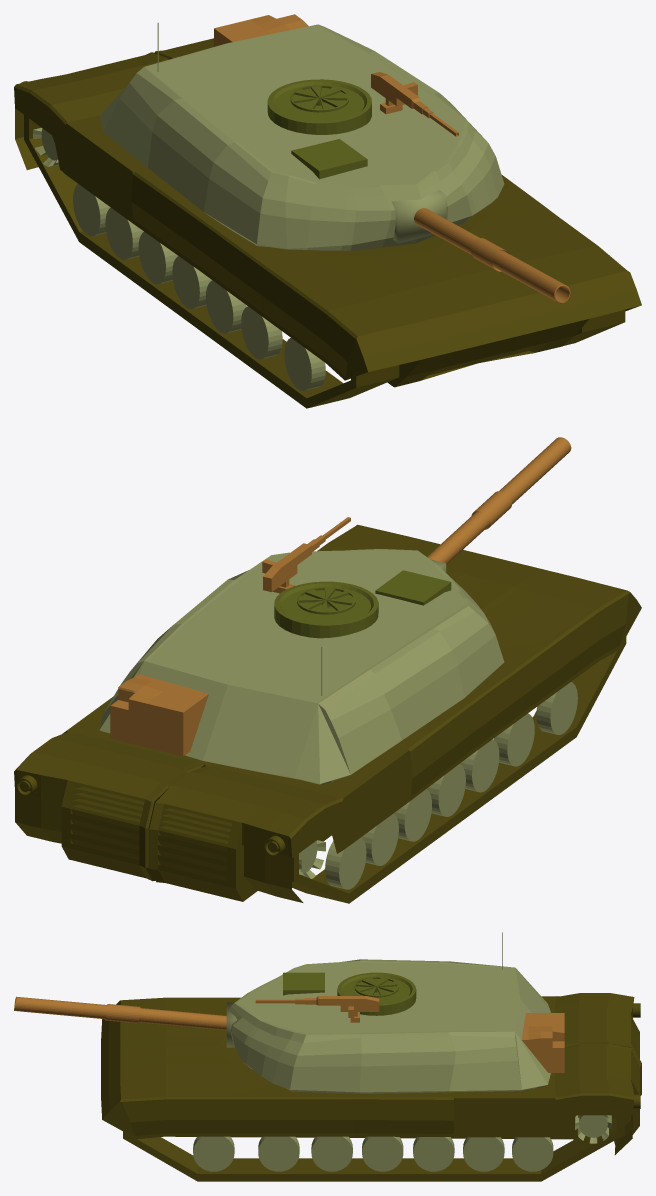
Rendered from tank.fbx.
3 renders of one model, top to bottom at view 1: azimuth 30°, elevation 25°; view 2: azimuth 150°, elevation 25°; view 3: azimuth 270°, elevation 25°, orthographic. The views are drawn at different scales.
Parts seen in each view (by area): view 1: tank_body, tank_turret, tank_caterpillar_1, big_gun, small_gun, Cylinder.035, Cylinder.034, Cylinder.033, Cylinder.032, Cylinder.031, Cylinder.030, Cylinder.029 (+2 smaller); view 2: tank_body, tank_turret, tank_caterpillar_1, big_gun, small_gun, Cylinder.029, Cylinder.035, Cylinder.034, Cylinder.033, Cylinder.032, Cylinder.031, Cylinder.030 (+1 smaller); view 3: tank_body, tank_turret, tank_caterpillar2, big_gun, small_gun, Cylinder.021, Cylinder.023, Cylinder.022, Cylinder.024, Cylinder.026, Cylinder.025, Cylinder.027 (+1 smaller).
Part boxes in pixels (bbox=[...]): tank_body: bbox=[14, 38, 641, 387]; tank_turret: bbox=[99, 14, 504, 250]; tank_caterpillar_1: bbox=[24, 115, 399, 408]; big_gun: bbox=[414, 208, 570, 303]; small_gun: bbox=[371, 72, 458, 136]; Cylinder.035: bbox=[284, 338, 325, 390]; Cylinder.034: bbox=[241, 306, 282, 359]; Cylinder.033: bbox=[206, 280, 246, 333]; Cylinder.032: bbox=[172, 256, 212, 309]; Cylinder.031: bbox=[138, 231, 177, 284]; Cylinder.030: bbox=[105, 207, 143, 259]; Cylinder.029: bbox=[73, 184, 110, 236]; tank_body: bbox=[14, 524, 641, 902]; tank_turret: bbox=[99, 549, 504, 785]; tank_caterpillar_1: bbox=[292, 637, 626, 903]; big_gun: bbox=[427, 437, 571, 564]; small_gun: bbox=[262, 517, 350, 593]; Cylinder.029: bbox=[325, 837, 366, 889]; Cylinder.035: bbox=[536, 682, 577, 734]; Cylinder.034: bbox=[494, 713, 534, 766]; Cylinder.033: bbox=[460, 739, 499, 792]; Cylinder.032: bbox=[427, 764, 465, 816]; Cylinder.031: bbox=[394, 789, 431, 841]; Cylinder.030: bbox=[361, 813, 398, 865]; tank_body: bbox=[101, 993, 641, 1154]; tank_turret: bbox=[226, 932, 564, 1093]; tank_caterpillar2: bbox=[123, 1115, 624, 1181]; big_gun: bbox=[14, 996, 226, 1030]; small_gun: bbox=[255, 996, 379, 1022]; Cylinder.021: bbox=[193, 1136, 234, 1171]; Cylinder.023: bbox=[311, 1136, 352, 1171]; Cylinder.022: bbox=[258, 1136, 299, 1171]; Cylinder.024: bbox=[362, 1136, 403, 1171]; Cylinder.026: bbox=[463, 1137, 504, 1171]; Cylinder.025: bbox=[413, 1137, 454, 1171]; Cylinder.027: bbox=[512, 1137, 553, 1171].
Size of the model in its own units: 986 by 754 by 2524.
